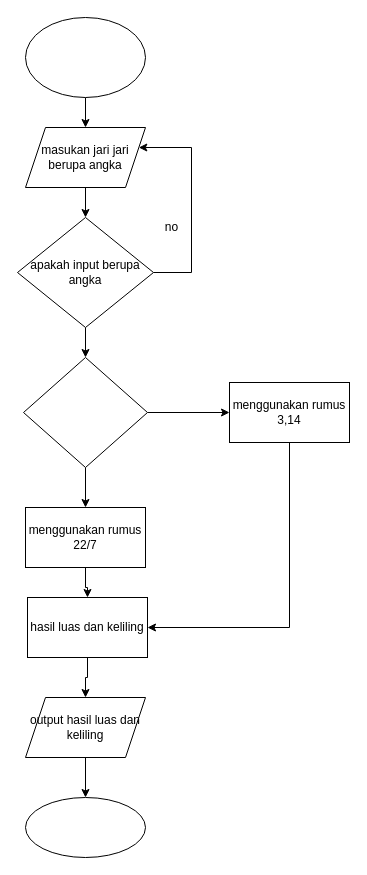
The diagram is 367 pixels wide and 875 high, and some of its shapes have lost their labels. Each missing label, with the box of its shape:
end: (24, 796, 146, 858)
memilih rumus apah di bagi 7 hasilnya 0: (22, 356, 148, 468)
start: (24, 16, 146, 98)
